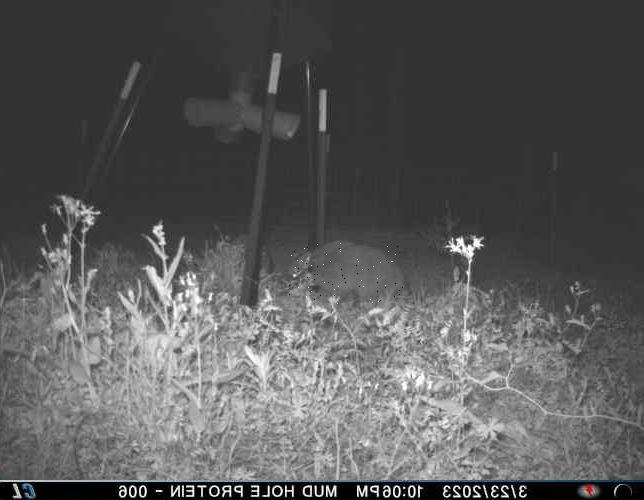Raccoon: (289, 244, 405, 305)
